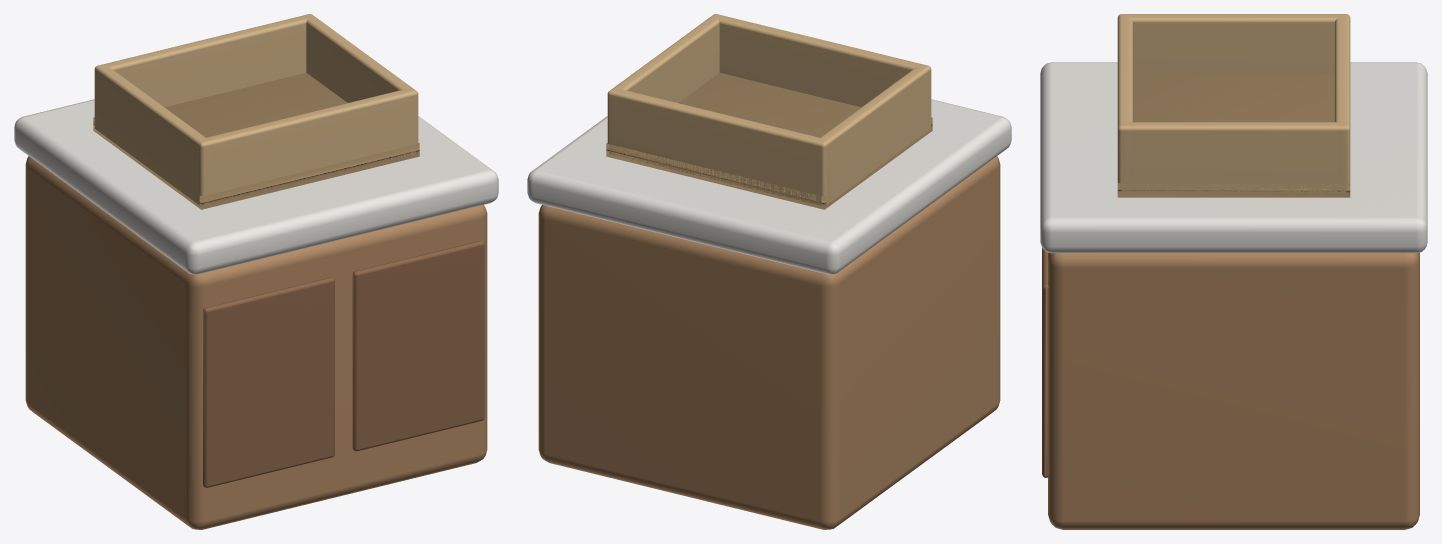
Rendered from container.glb.
3 renders of one model, left to right at view 1: azimuth 30°, elevation 25°; view 2: azimuth 150°, elevation 25°; view 3: azimuth 270°, elevation 25°, orthographic. The views are drawn at different scales.
Visible parts, largest first — view 1: cabinet, top, door0.24, door-0.24, wallx-0.28, wallx0.28, floor, wally-0.33, wally0.33; view 2: cabinet, top, wallx0.28, wallx-0.28, floor, wally-0.33, wally0.33; view 3: cabinet, top, wally0.33, wally-0.33, floor, wallx-0.28, wallx0.28, door0.24.
Boxes of the visible parts, x1=… form: cabinet: x1=25, y1=156, x2=487, y2=529; top: x1=14, y1=99, x2=498, y2=274; door0.24: x1=352, y1=241, x2=484, y2=451; door-0.24: x1=203, y1=277, x2=334, y2=487; wallx-0.28: x1=199, y1=88, x2=417, y2=205; wallx0.28: x1=97, y1=14, x2=313, y2=107; floor: x1=93, y1=72, x2=419, y2=209; wally-0.33: x1=94, y1=65, x2=210, y2=204; wally0.33: x1=303, y1=14, x2=418, y2=155; cabinet: x1=538, y1=156, x2=1000, y2=529; top: x1=527, y1=99, x2=1011, y2=274; wallx0.28: x1=608, y1=88, x2=829, y2=205; wallx-0.28: x1=712, y1=14, x2=930, y2=129; floor: x1=606, y1=72, x2=932, y2=209; wally-0.33: x1=815, y1=65, x2=931, y2=204; wally0.33: x1=607, y1=14, x2=719, y2=155; cabinet: x1=1048, y1=252, x2=1419, y2=529; top: x1=1040, y1=62, x2=1427, y2=253; wally0.33: x1=1117, y1=122, x2=1350, y2=193; wally-0.33: x1=1117, y1=14, x2=1349, y2=75; floor: x1=1117, y1=75, x2=1350, y2=197; wallx-0.28: x1=1117, y1=14, x2=1133, y2=193; wallx0.28: x1=1334, y1=14, x2=1350, y2=193; door0.24: x1=1042, y1=248, x2=1048, y2=477.
Size of the model in its own units: 1 by 1.1 by 1.
